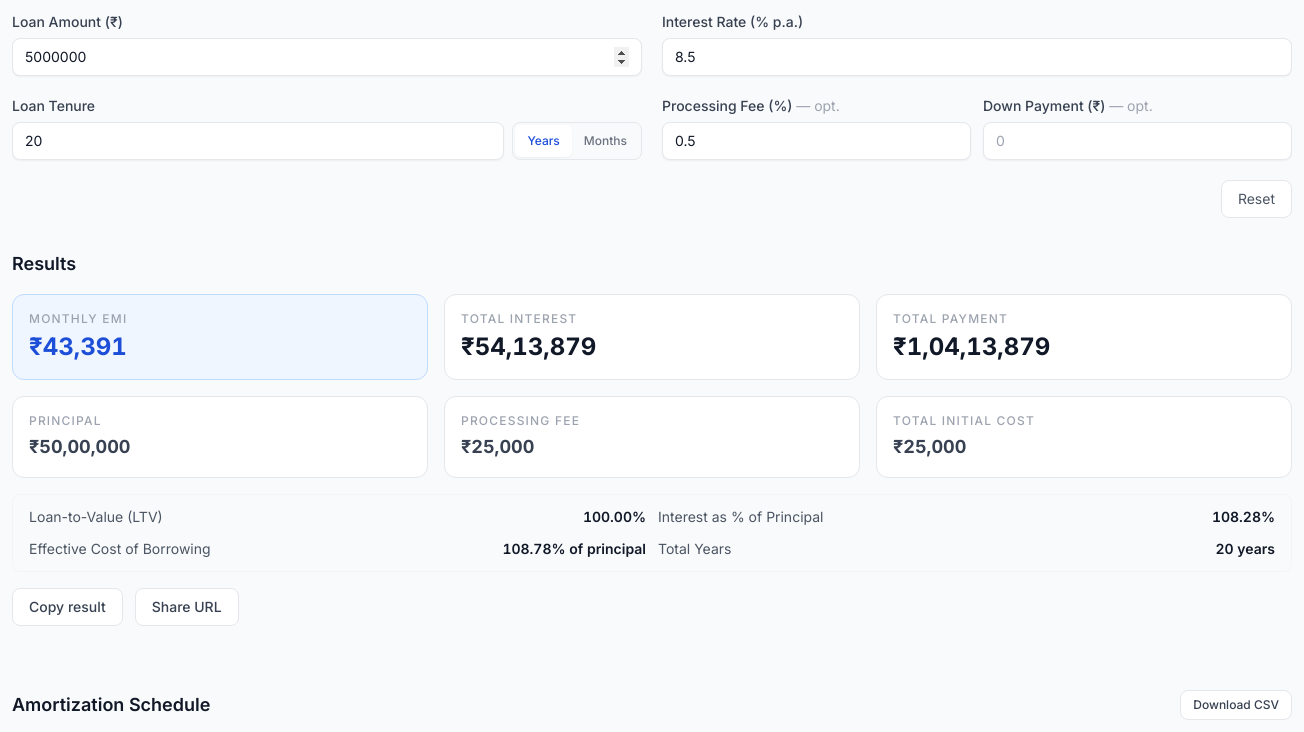
it: HomeLoanCalculator › shows error when tenure exceeds 30 years
Step 1. Replace the text in the number field labelled "Loan Tenure" with "40" → x=258, y=141, box [12,122,504,160]
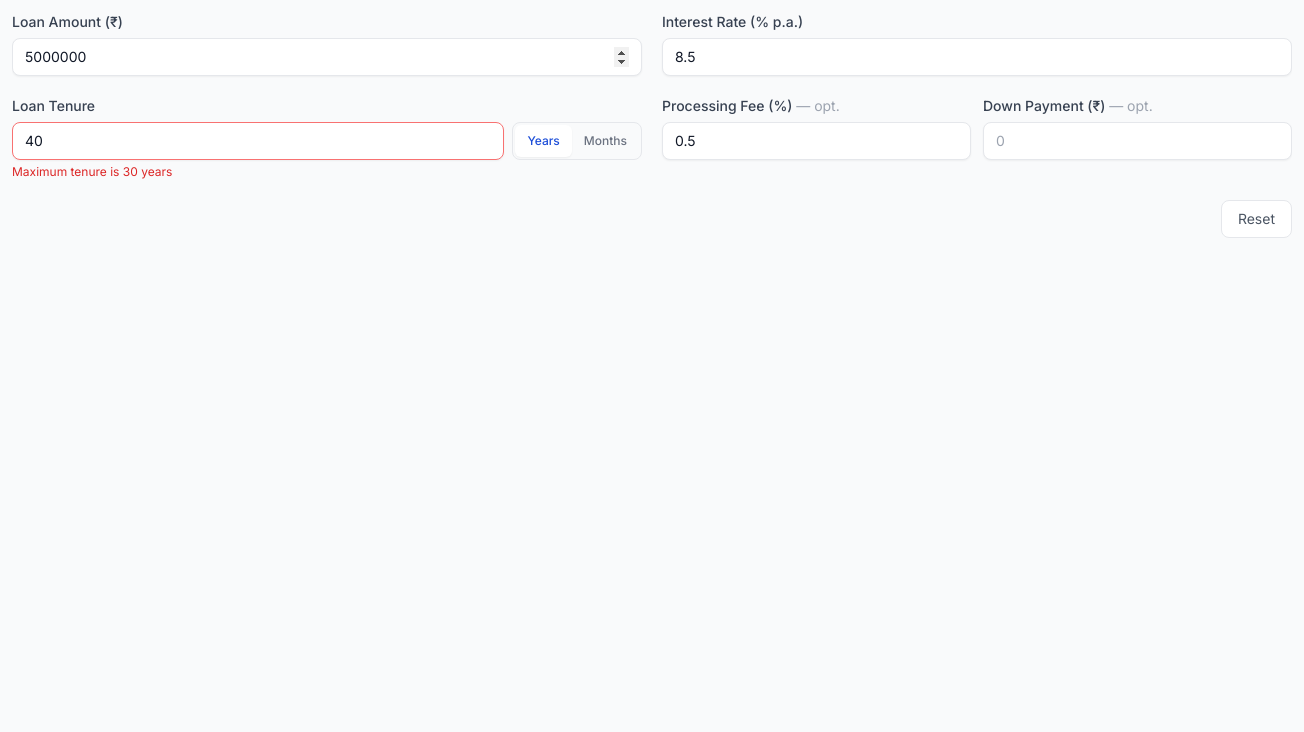
expect the text "Maximum tenure is 30 years" is shown: met, box [12,164,172,179]
